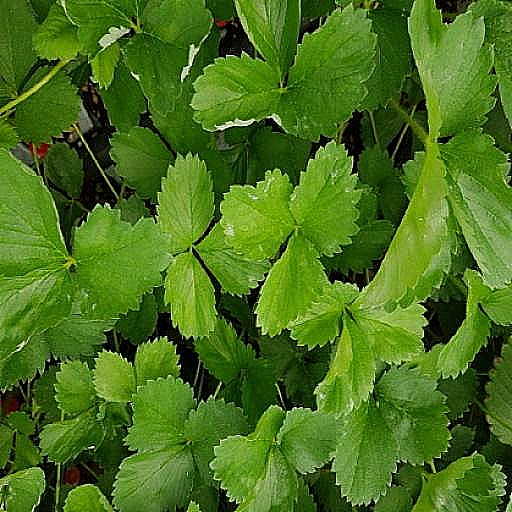Powdery Mildew Leaf: (132, 369, 243, 511), (338, 195, 443, 310), (297, 394, 390, 511), (148, 255, 224, 373), (436, 142, 511, 252), (232, 380, 322, 463), (216, 251, 294, 345), (136, 92, 199, 200), (239, 213, 320, 290), (4, 0, 101, 61), (368, 448, 455, 511)
